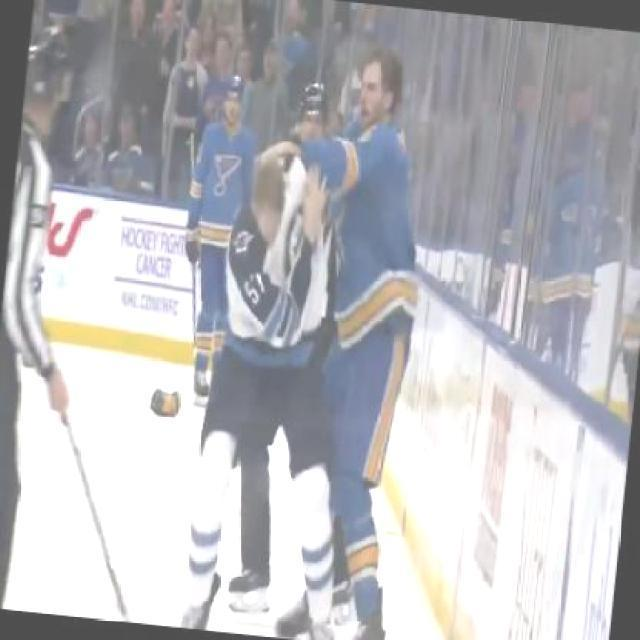fight: (191, 35, 446, 578)
non-fight: (167, 69, 267, 406)
